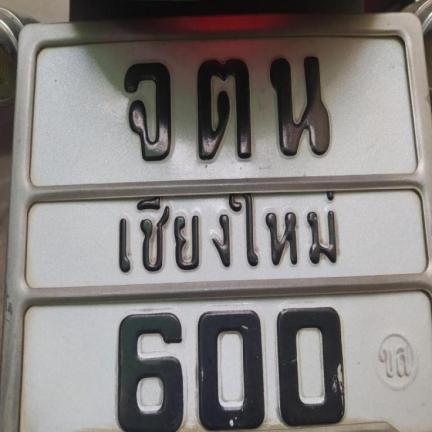0: (274, 304, 351, 429), (193, 310, 266, 430)
6: (111, 310, 187, 432)
A08: (115, 55, 176, 165)
A21: (183, 53, 261, 160)
A25: (268, 50, 338, 159)
CMI: (108, 189, 345, 280)
